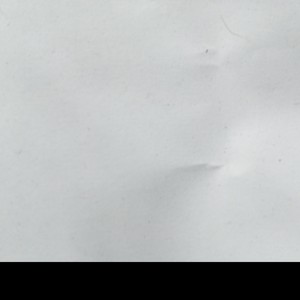base: (2, 1, 298, 260)
